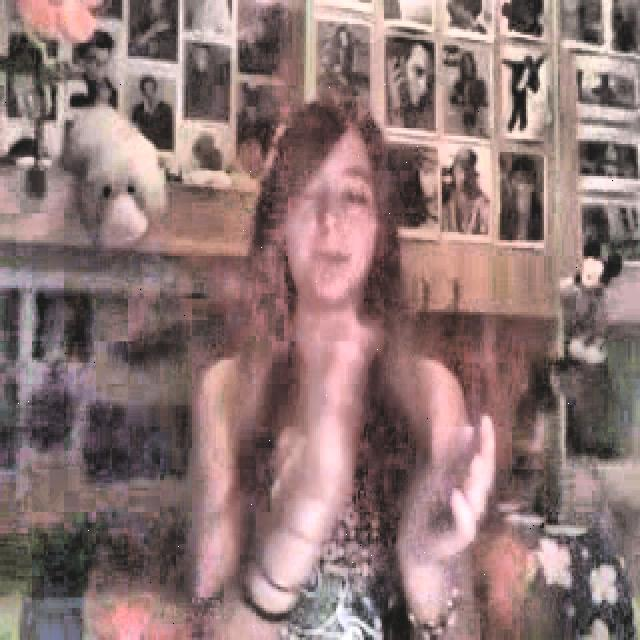F: (158, 94, 522, 640)
